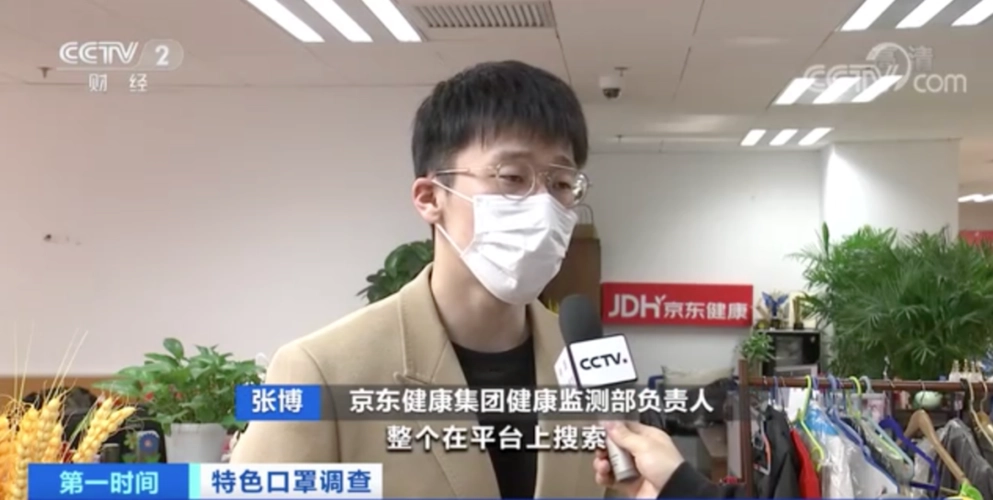withmask: (389, 57, 604, 318)
